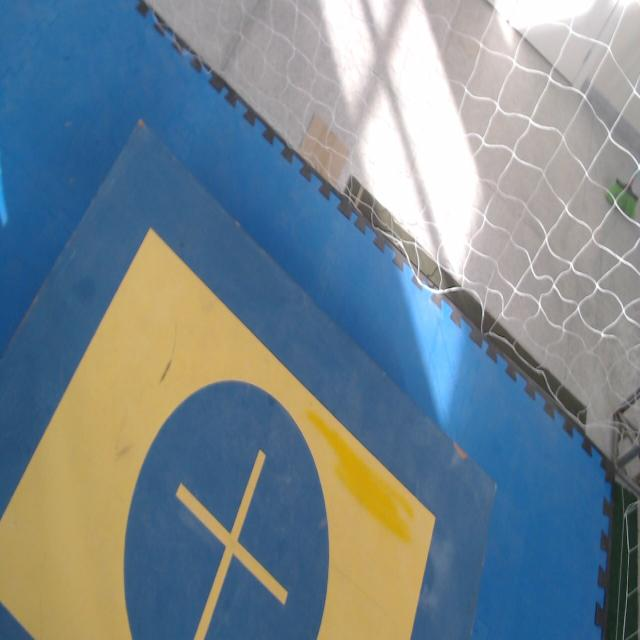base_inicio: (0, 225, 436, 639)
